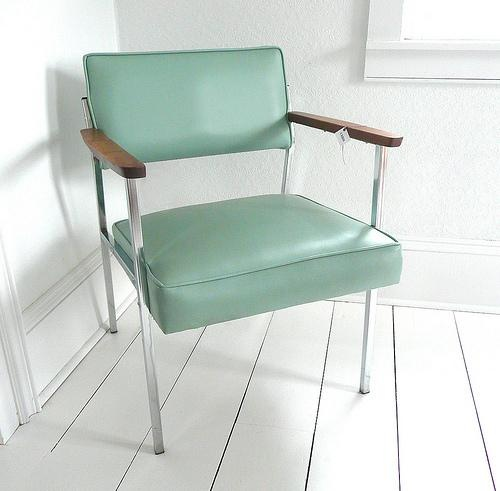obstacle: (81, 47, 401, 453)
